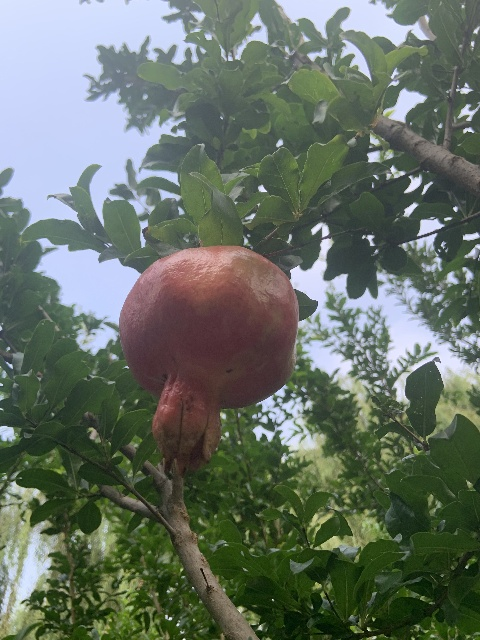ripe: (117, 244, 300, 473)
